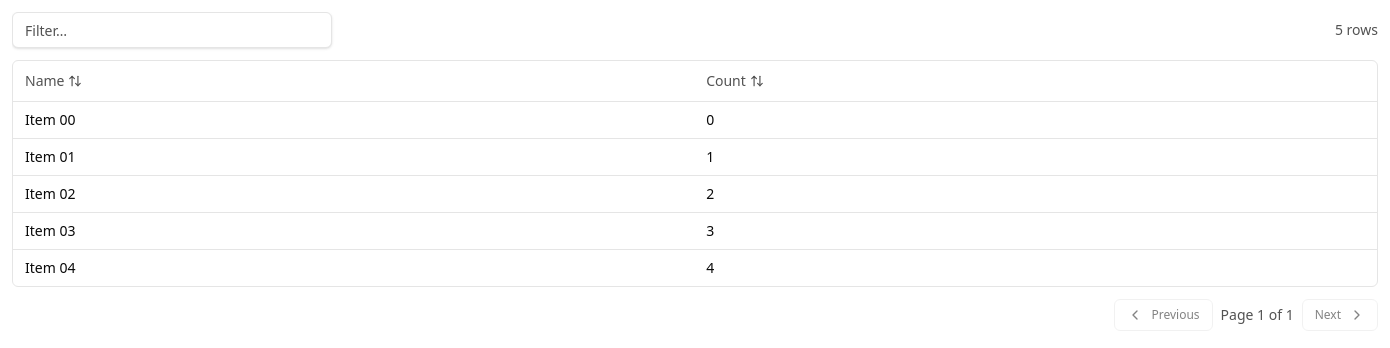
Scenario: DataTable › filters rows by the search input
Type "item 03" into the field labelled "Filter…" at [172, 30], box [12, 12, 332, 48]
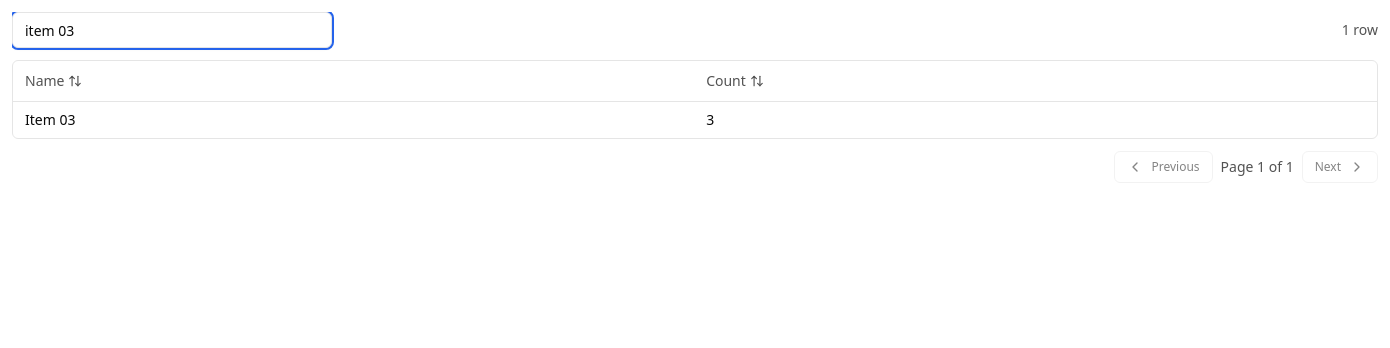
Expected: the text "Item 03" is shown, [13, 101, 694, 138]
Now the text "Item 00" is gone
Now the text "1 row" is shown, box [1342, 20, 1378, 40]
